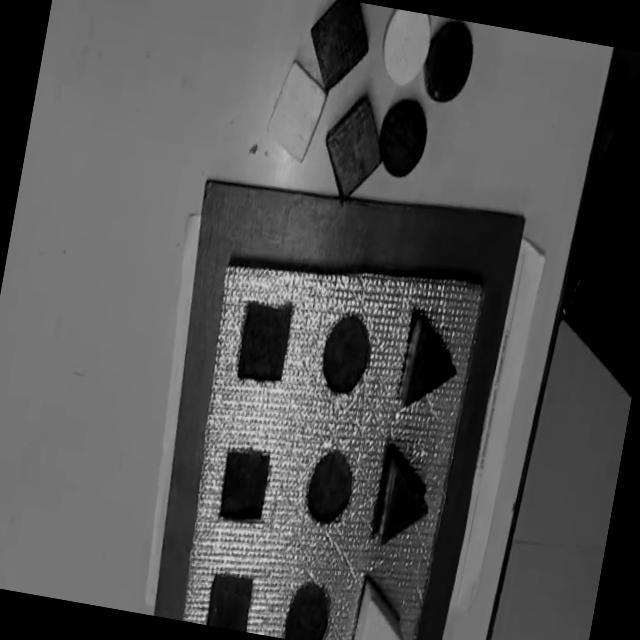bcircle: (374, 94, 432, 180)
bcube: (302, 0, 375, 95)
btriangle: (394, 314, 464, 416)
mtcircle: (314, 308, 376, 398), (301, 443, 359, 528), (281, 576, 335, 640)
mtcube: (232, 296, 296, 388), (214, 442, 274, 528), (205, 567, 257, 632)
rcircle: (419, 15, 478, 106)
rcube: (316, 88, 392, 206)
rtriangle: (372, 448, 441, 554)
wb: (165, 233, 489, 640)
ycircle: (377, 8, 435, 91)
ycube: (260, 56, 330, 166)
ytriangle: (350, 576, 415, 640)
